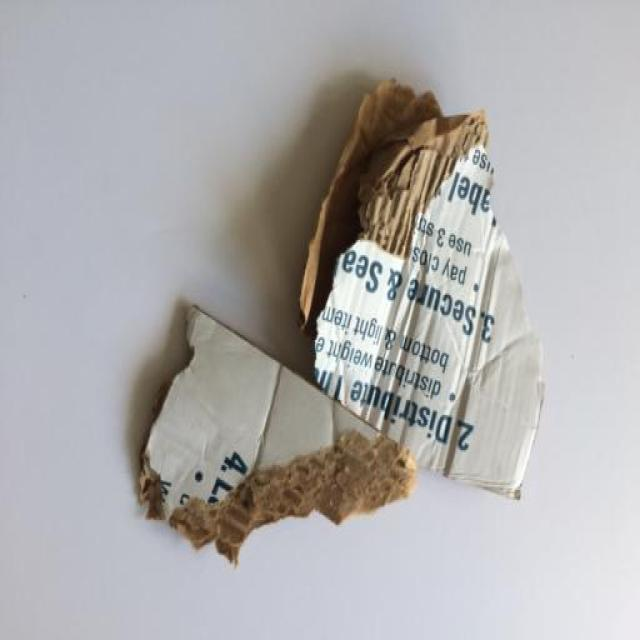cardboard: (298, 78, 545, 497), (135, 305, 414, 565)
